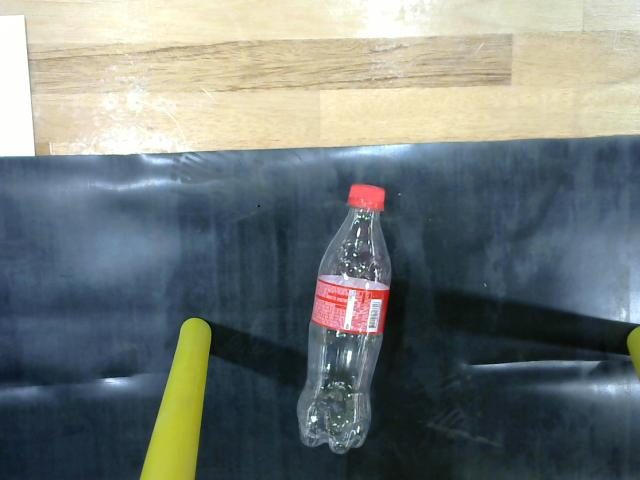bottle: (287, 179, 401, 459)
